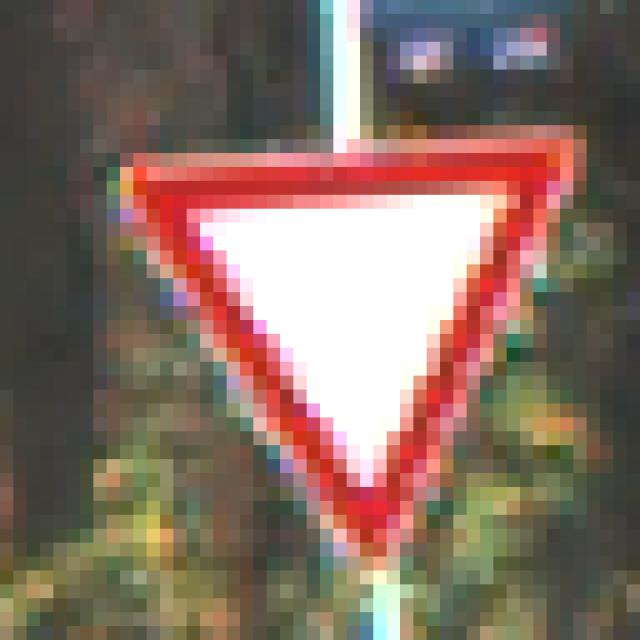Give Way: (81, 85, 561, 558)
